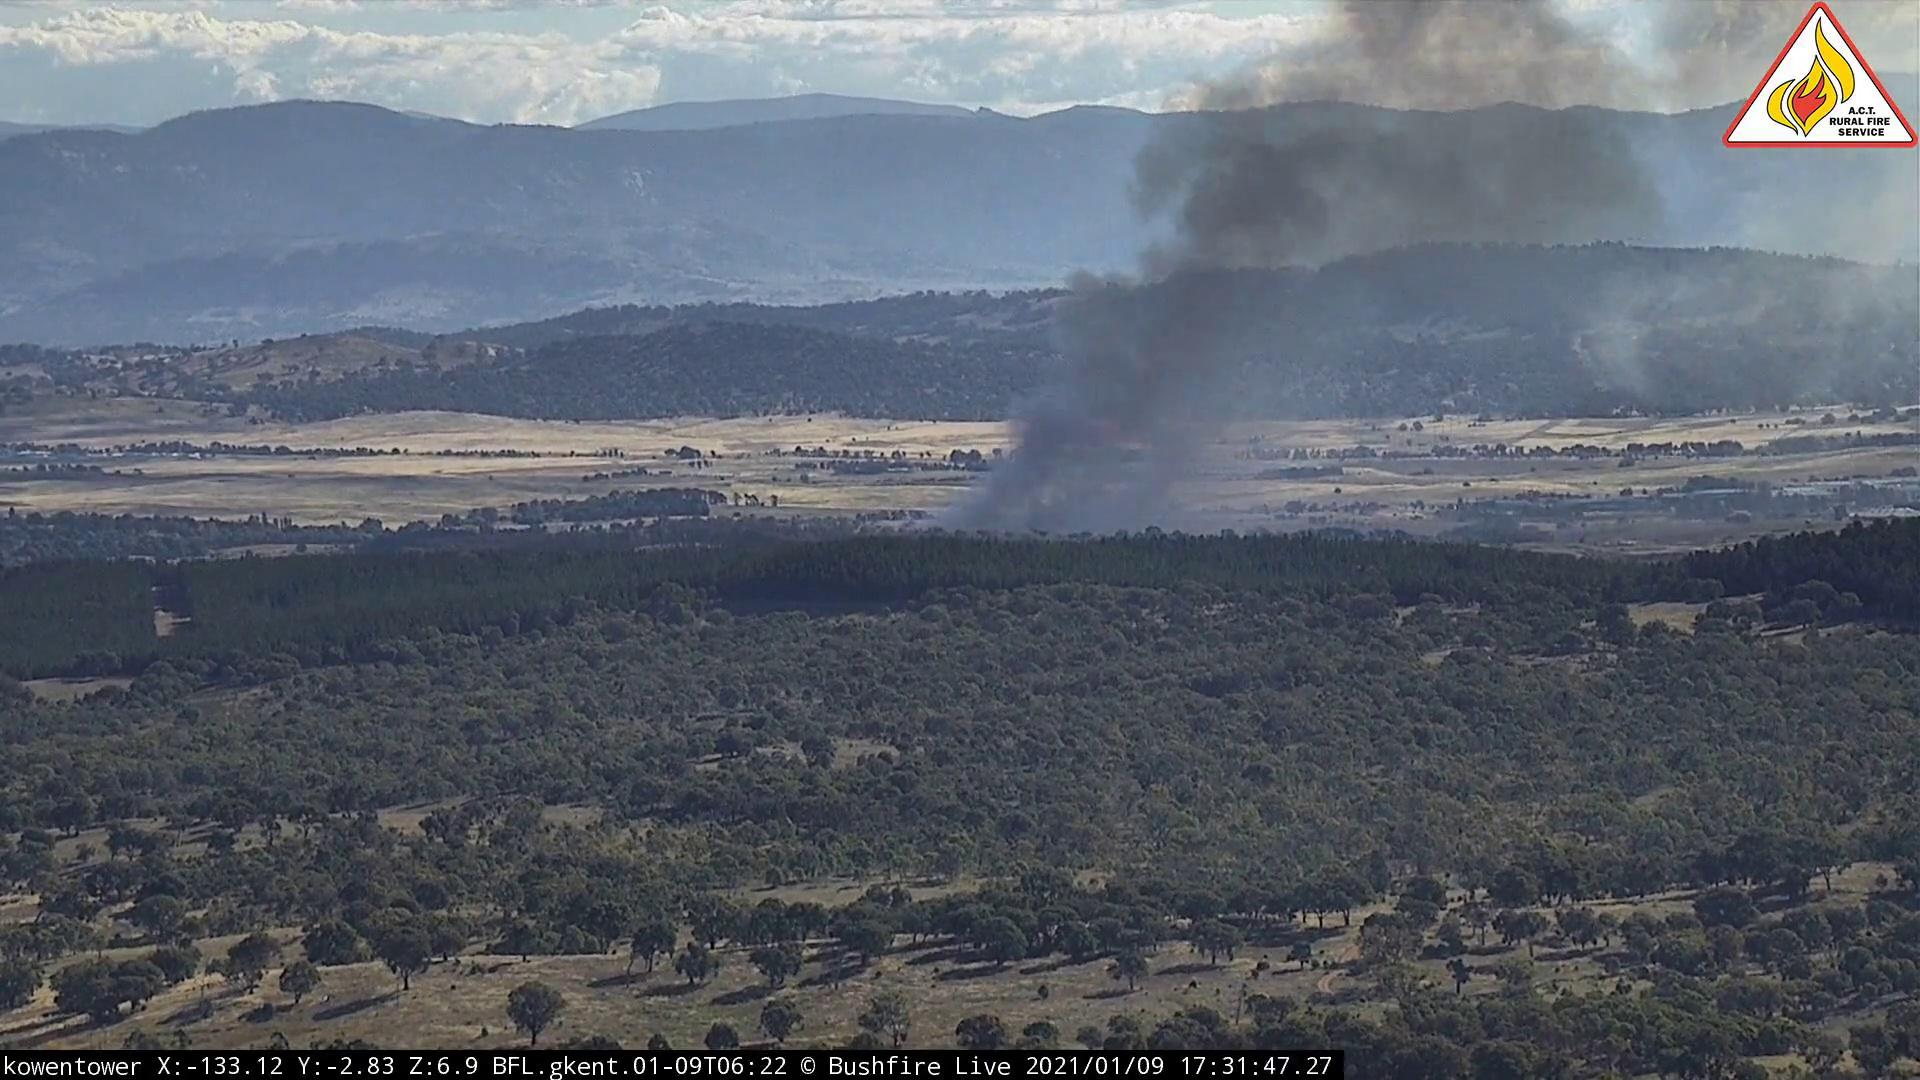instance_salient_object: (916, 3, 1717, 546)
